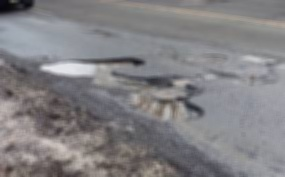pothole: (4, 89, 69, 175), (125, 78, 209, 121), (72, 118, 113, 175), (34, 56, 150, 75), (120, 145, 169, 177), (208, 70, 279, 85), (182, 50, 228, 65), (236, 51, 277, 63)
